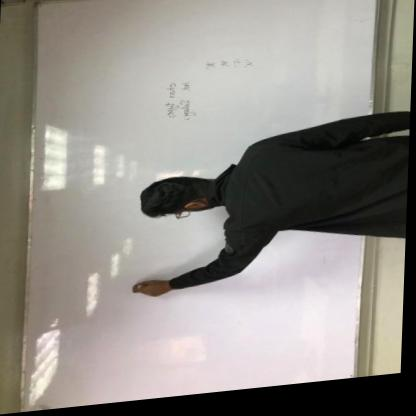Handwritten text: (156, 80, 203, 123), (244, 64, 262, 77), (230, 63, 244, 74), (217, 63, 232, 72), (203, 65, 215, 74)
Lecturer: (137, 124, 376, 293)
Whiteboard: (22, 0, 378, 413)
